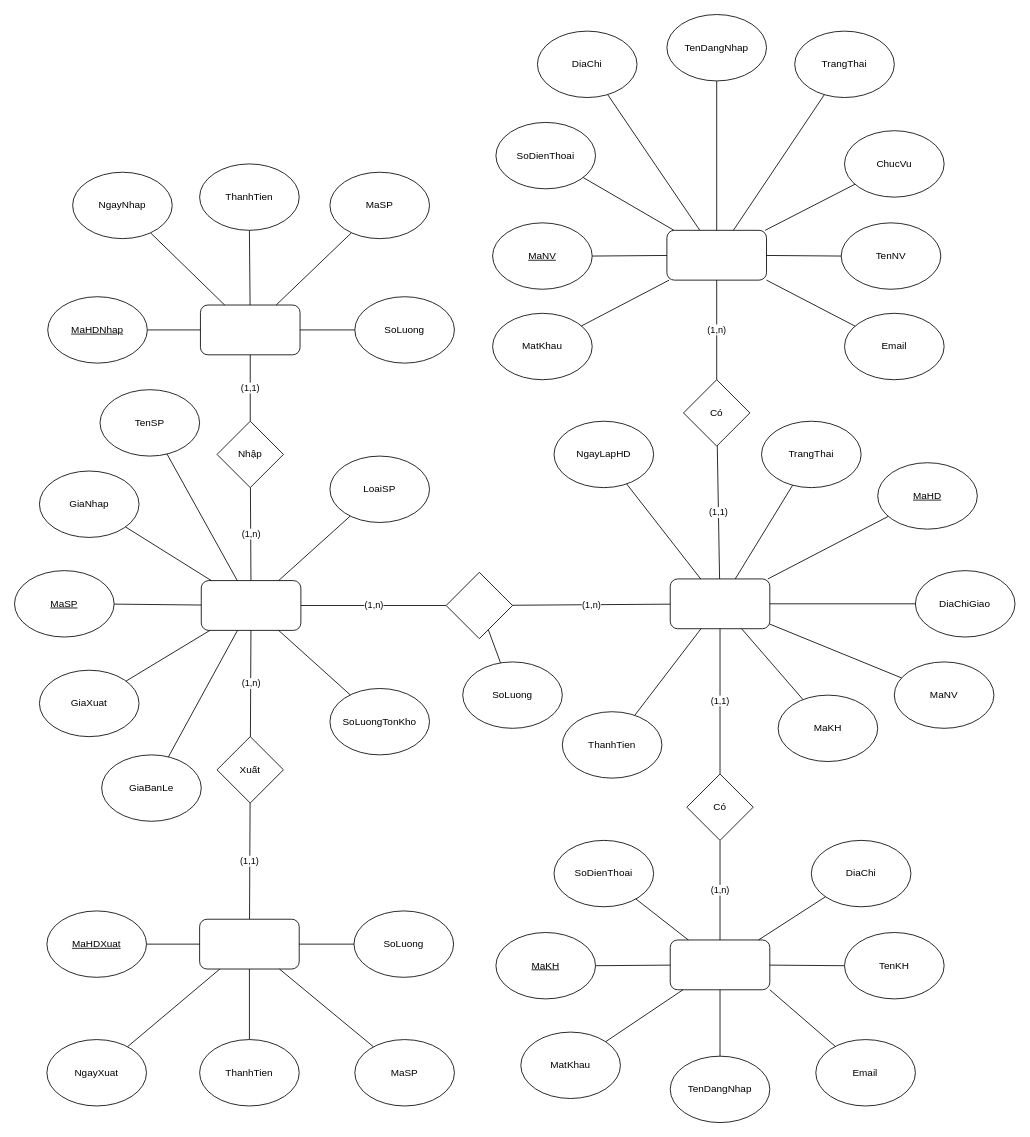
This 1030x1137 diagram has some shape labels left out. The centre of each missing label's shape, as x and y in pixels:
"Chi Tiet Hoa Don" belongs at point (479, 605).
"Hóa đơn" belongs at point (719, 603).
"Khách Hàng" belongs at point (719, 964).
"NhapHang" belongs at point (250, 329).
"Nhân viên" belongs at point (716, 254).
"Sản phẩm" belongs at point (250, 605).
"XuatHang" belongs at point (249, 943).
